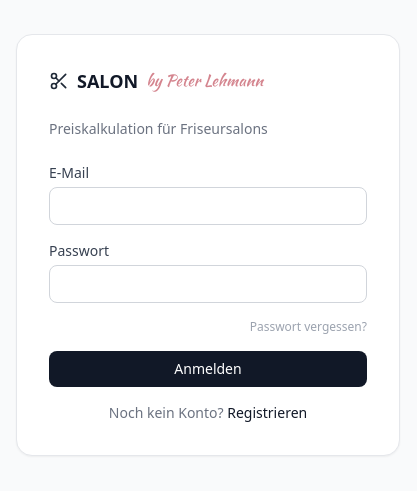
it: LoginPage › shows error message on failed login
This screenshot has width=417, height=491.
Type "bad@example.com" into the field at (208, 206), box [49,187,367,225]
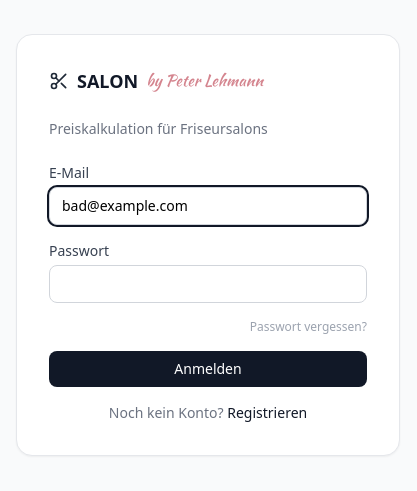
Type "wrongpass" into the password field at (208, 284), box [49,265,367,303]
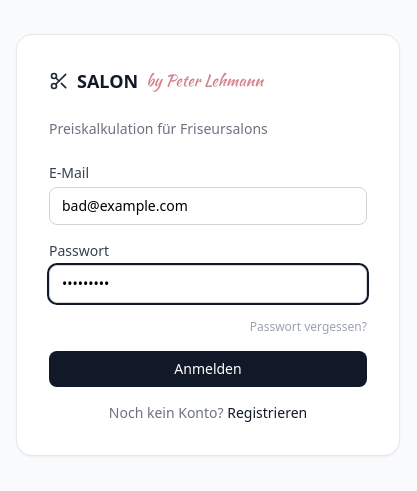
Submit the form from the button "Anmelden", box [49,351,367,387]
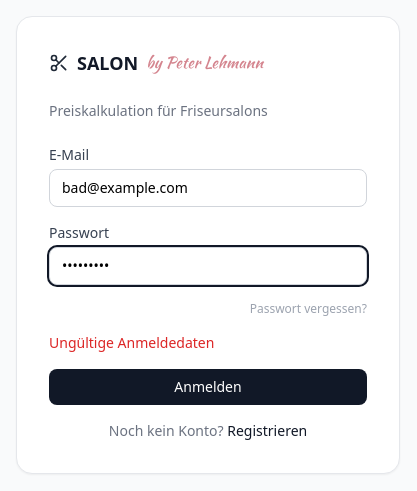
Expected: the text "Ungültige Anmeldedaten" is shown, [49,333,214,352]
